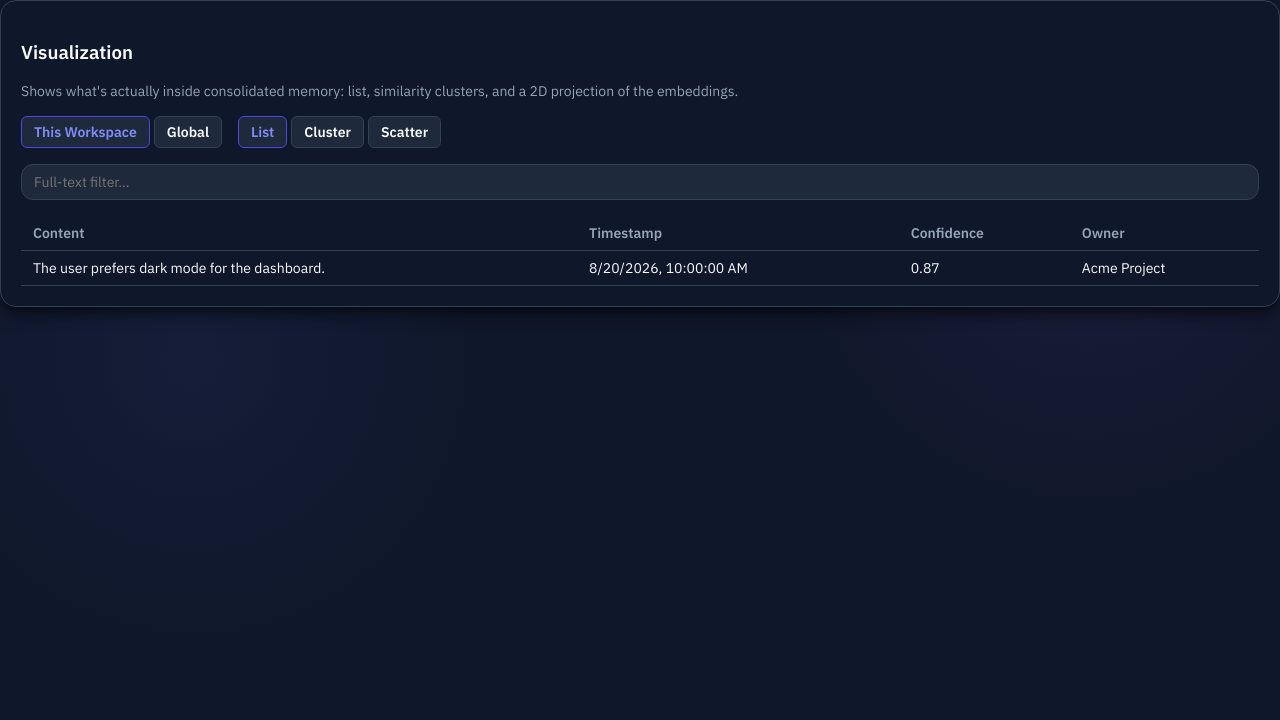
Test: MemoryVisualizationSection › switching Cluster -> Scatter -> Cluster does not re-fetch the cached projection
This screenshot has width=1280, height=720.
expect the row with test id "memory-viz-row-entry-1" is shown: met, box [21,251,1259,286]
Step 1. Click the button with test id "memory-viz-view-cluster" → [328, 132], box [291,116,364,148]
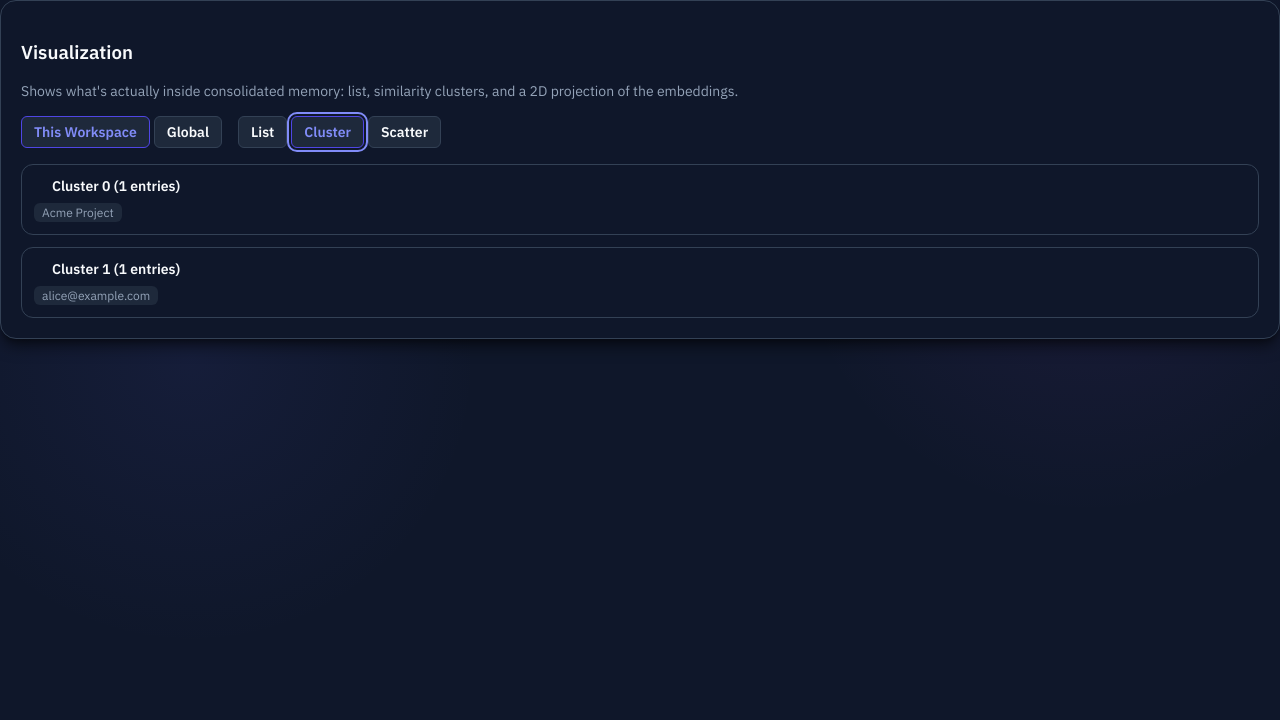
expect the element with test id "memory-viz-cluster-list" is shown: met, box [21,164,1259,318]
Step 2. Click the button with test id "memory-viz-view-scatter" → [405, 132], box [368,116,441,148]
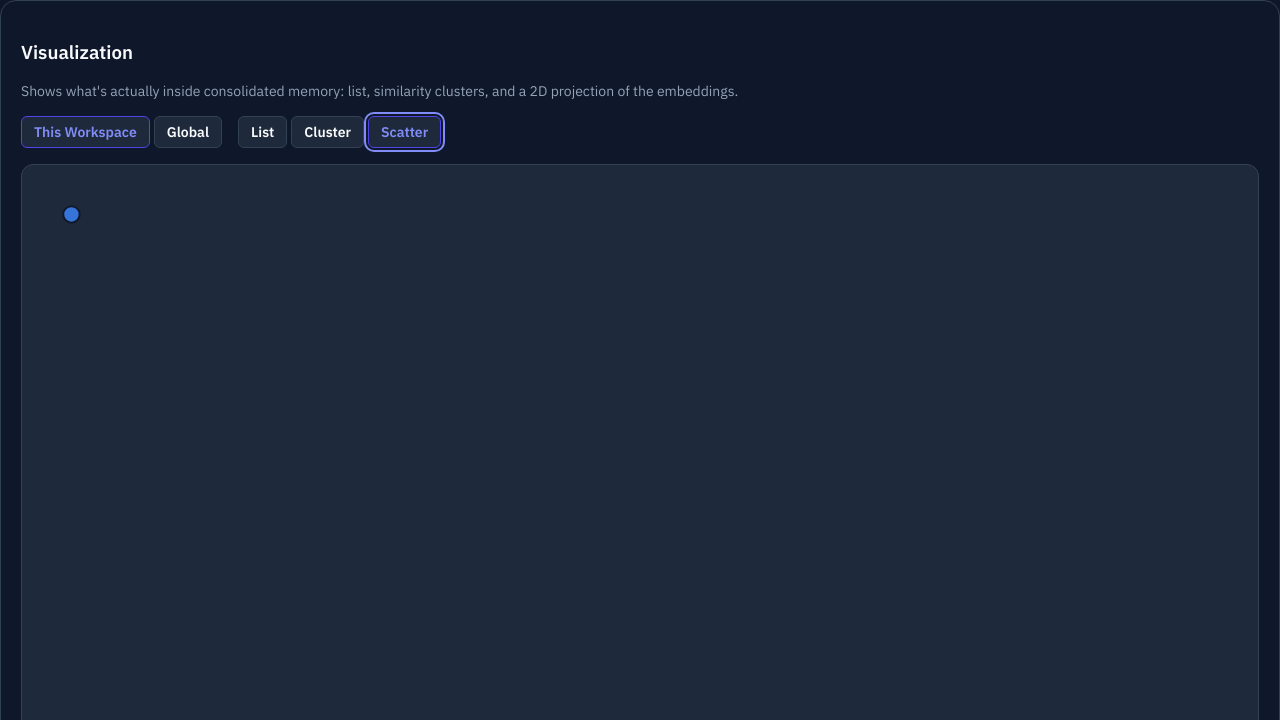
expect the element with test id "memory-viz-scatter-point-entry-2" is shown: met, box [63,207,80,223]
Step 3. Click the button with test id "memory-viz-view-cluster" → [328, 132], box [291,116,364,148]
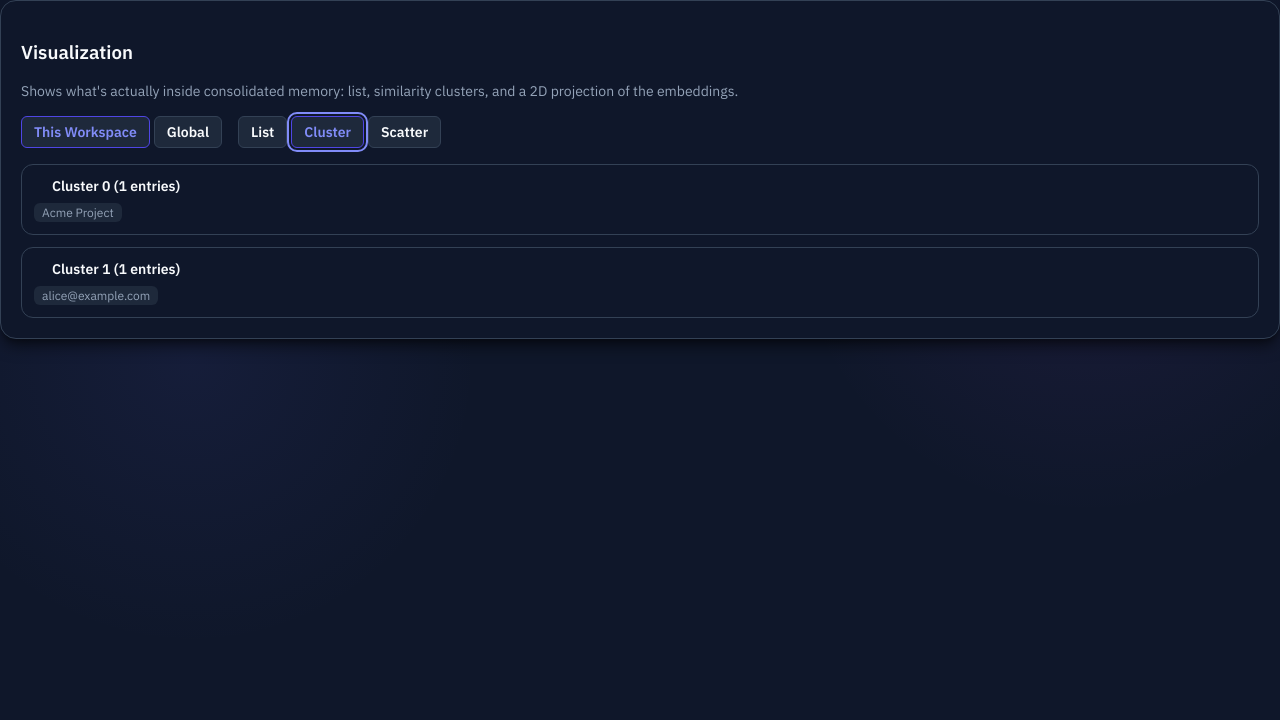
expect the element with test id "memory-viz-cluster-list" is shown: met, box [21,164,1259,318]
